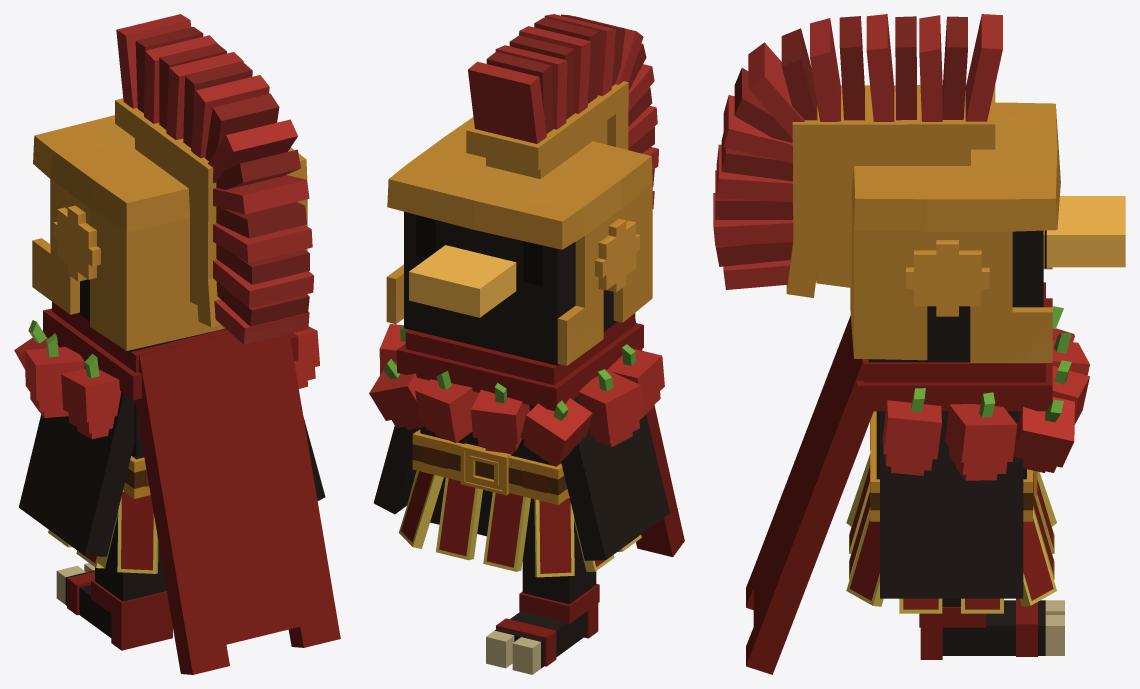
The model's file is Ytka.fbx.
3 views of the same model, side by side, from view 1: azimuth 30°, elevation 25°; view 2: azimuth 150°, elevation 25°; view 3: azimuth 270°, elevation 25° (orthographic). The views are drawn at different scales.
Visible parts, largest first — view 1: [BRAINROT] Brri Brri Bicus Dicus Bombicus.004, [BRAINROT] Brri Brri Bicus Dicus Bombicus.003, [BRAINROT] Brri Brri Bicus Dicus Bombicus, [BRAINROT] Brri Brri Bicus Dicus Bombicus.001, [BRAINROT] Brri Brri Bicus Dicus Bombicus.005; view 2: [BRAINROT] Brri Brri Bicus Dicus Bombicus.004, [BRAINROT] Brri Brri Bicus Dicus Bombicus, [BRAINROT] Brri Brri Bicus Dicus Bombicus.001, [BRAINROT] Brri Brri Bicus Dicus Bombicus.005, [BRAINROT] Brri Brri Bicus Dicus Bombicus.002, [BRAINROT] Brri Brri Bicus Dicus Bombicus.003; view 3: [BRAINROT] Brri Brri Bicus Dicus Bombicus.004, [BRAINROT] Brri Brri Bicus Dicus Bombicus, [BRAINROT] Brri Brri Bicus Dicus Bombicus.002, [BRAINROT] Brri Brri Bicus Dicus Bombicus.003, [BRAINROT] Brri Brri Bicus Dicus Bombicus.005.
Part boxes in pixels (box(x1,y1,x2,y2)): [BRAINROT] Brri Brri Bicus Dicus Bombicus.004: box(32, 14, 313, 351); [BRAINROT] Brri Brri Bicus Dicus Bombicus.003: box(134, 333, 340, 674); [BRAINROT] Brri Brri Bicus Dicus Bombicus: box(14, 302, 319, 573); [BRAINROT] Brri Brri Bicus Dicus Bombicus.001: box(19, 346, 134, 556); [BRAINROT] Brri Brri Bicus Dicus Bombicus.005: box(56, 531, 172, 650); [BRAINROT] Brri Brri Bicus Dicus Bombicus.004: box(386, 14, 658, 365); [BRAINROT] Brri Brri Bicus Dicus Bombicus: box(369, 313, 664, 577); [BRAINROT] Brri Brri Bicus Dicus Bombicus.001: box(561, 396, 669, 560); [BRAINROT] Brri Brri Bicus Dicus Bombicus.005: box(486, 536, 599, 674); [BRAINROT] Brri Brri Bicus Dicus Bombicus.002: box(373, 425, 420, 514); [BRAINROT] Brri Brri Bicus Dicus Bombicus.003: box(635, 320, 684, 556); [BRAINROT] Brri Brri Bicus Dicus Bombicus.004: box(713, 14, 1125, 362); [BRAINROT] Brri Brri Bicus Dicus Bombicus: box(846, 282, 1089, 613); [BRAINROT] Brri Brri Bicus Dicus Bombicus.002: box(880, 411, 1023, 598); [BRAINROT] Brri Brri Bicus Dicus Bombicus.003: box(746, 316, 873, 674); [BRAINROT] Brri Brri Bicus Dicus Bombicus.005: box(919, 598, 1064, 659).
Size of the model in its own units: 354 by 756 by 444.
